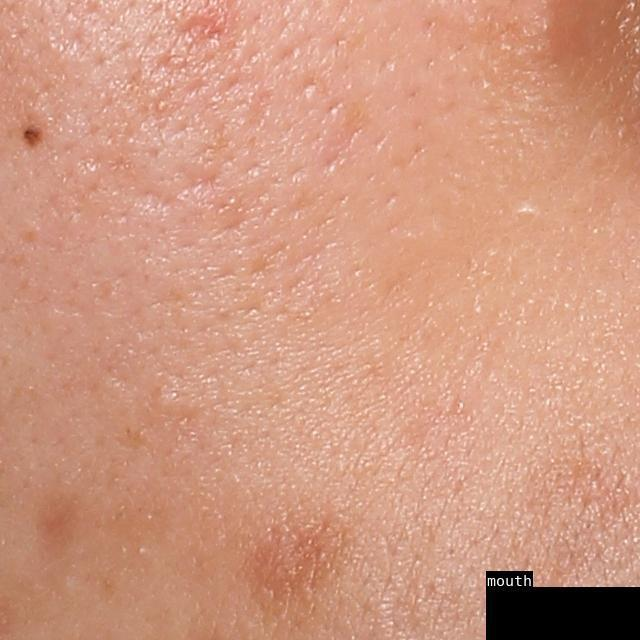comedo: (150, 387, 184, 416)
